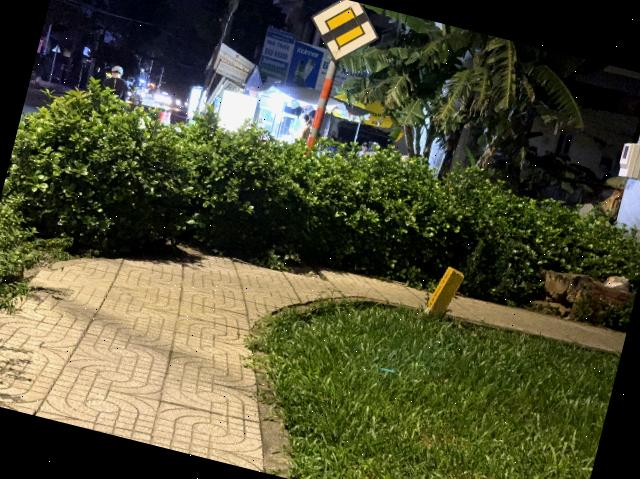het-duong-uu-tien: (301, 0, 386, 73)
